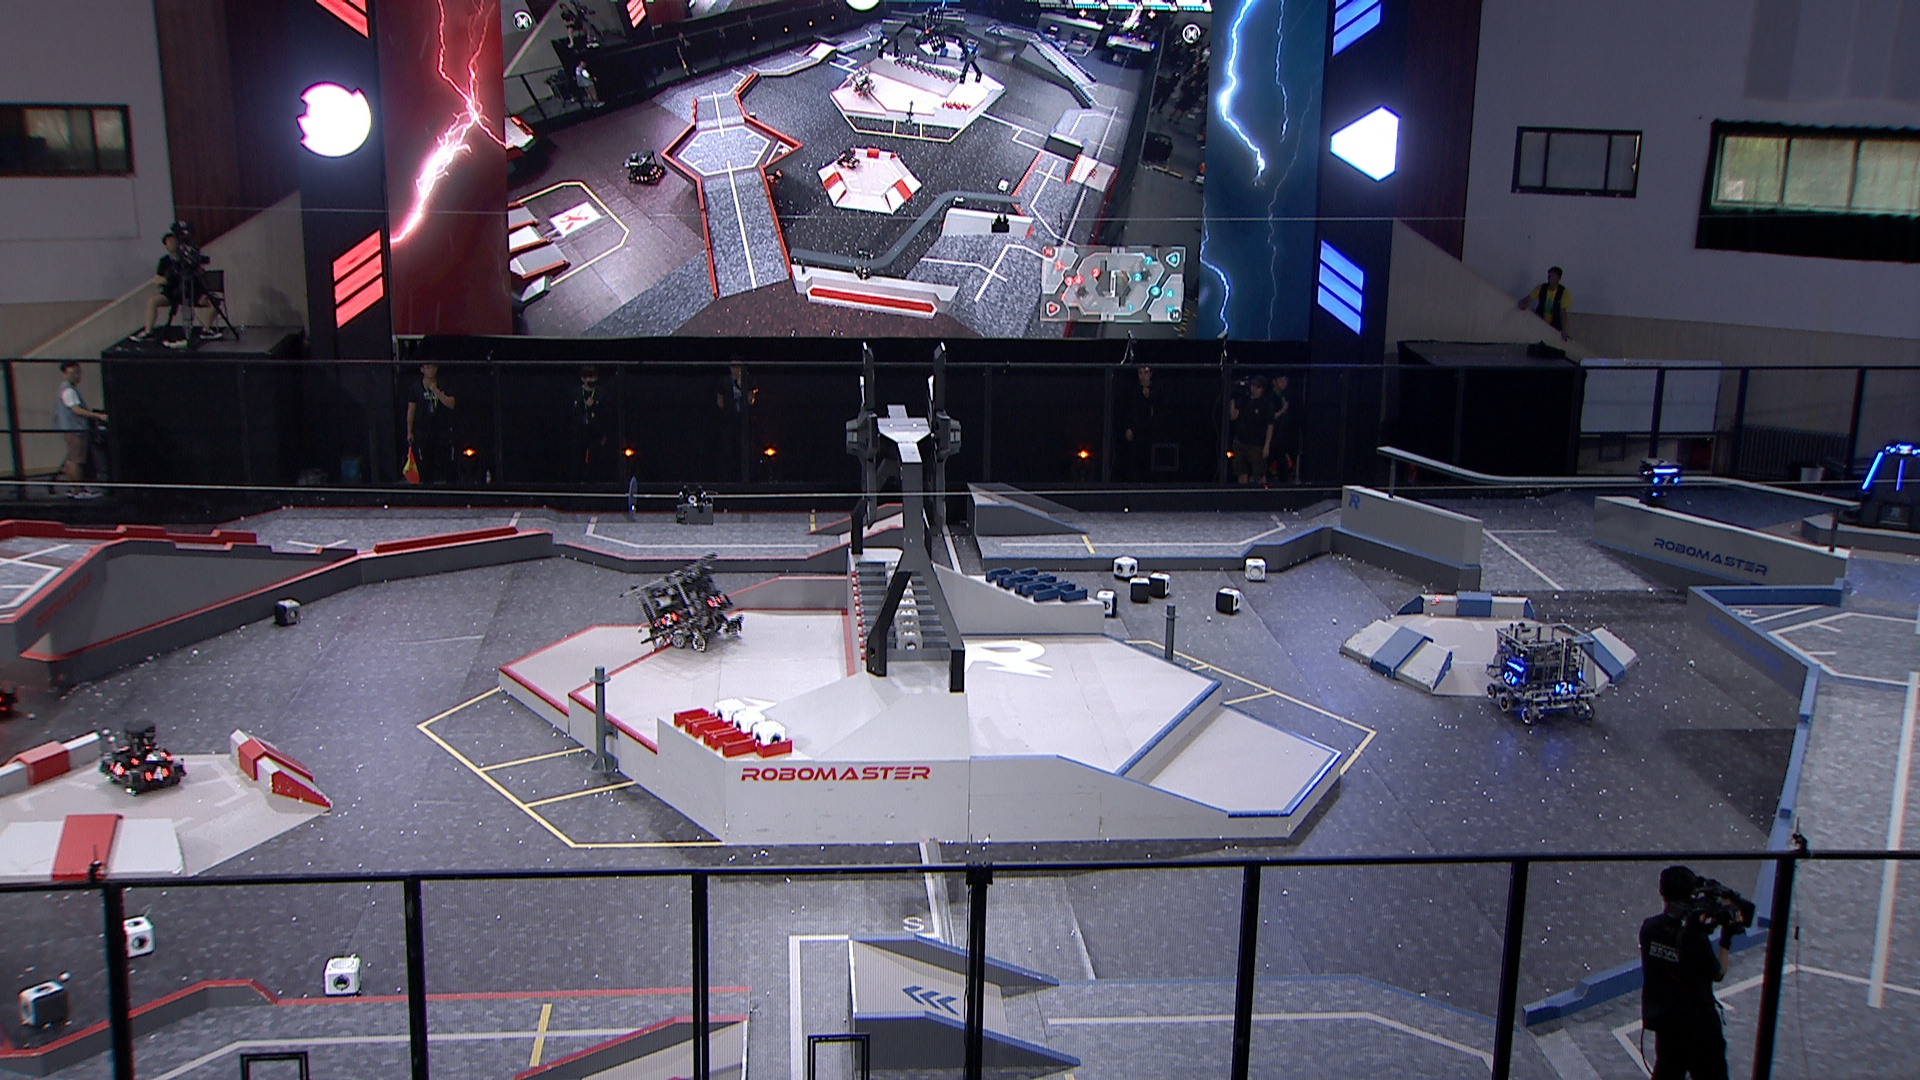armor: (1859, 447, 1884, 491), (131, 749, 173, 765), (1894, 456, 1905, 493), (145, 765, 169, 783), (1648, 475, 1681, 488), (1888, 444, 1920, 458), (655, 611, 678, 628), (107, 757, 124, 779), (1501, 669, 1519, 688), (1555, 680, 1575, 698), (704, 593, 723, 608)
base: (1832, 439, 1920, 534)
car: (1481, 616, 1600, 727), (624, 551, 745, 655), (98, 719, 186, 796)
ignore: (621, 146, 667, 186), (851, 245, 877, 282), (847, 65, 877, 96), (828, 145, 862, 169)
watcher: (1633, 455, 1687, 510)
